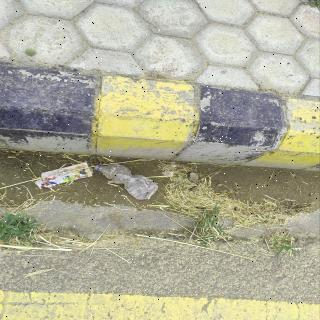Plastic-bottle: (94, 162, 162, 203)
